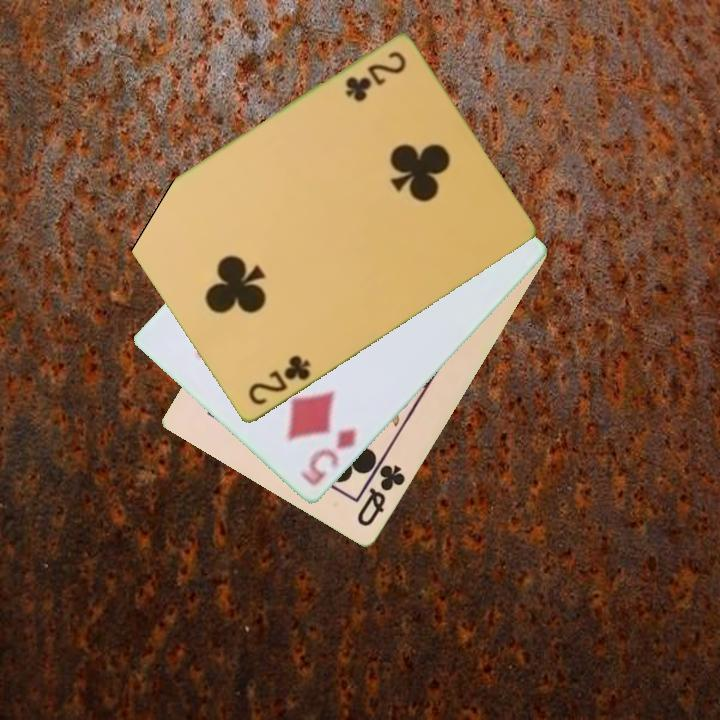2c: (244, 352, 314, 409), (341, 48, 409, 105)
5d: (296, 424, 360, 490)
Qc: (353, 461, 409, 531)
